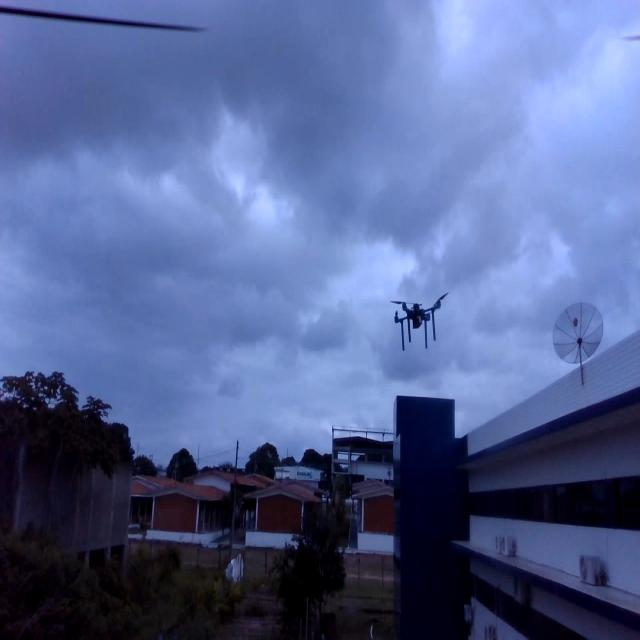-uav-: (381, 282, 452, 362)
